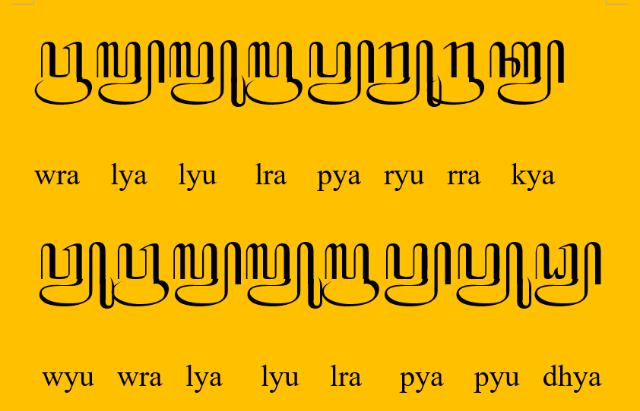dhy: (534, 242, 604, 308)
ky: (490, 40, 564, 106)
lr: (244, 41, 304, 105), (322, 244, 380, 308)
ly: (172, 242, 242, 308), (96, 40, 166, 105)
lyu: (170, 39, 247, 108), (245, 242, 323, 310)
py: (384, 242, 452, 308), (308, 39, 374, 105)
pyu: (456, 242, 532, 310)
rr: (426, 40, 486, 106)
ryu: (366, 39, 442, 107)
wr: (34, 40, 92, 106), (112, 244, 168, 308)
wyu: (39, 240, 115, 309)
